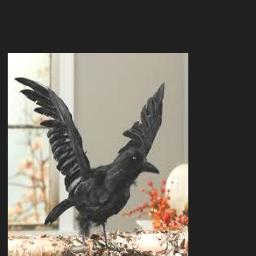Crow: (13, 75, 167, 247)
